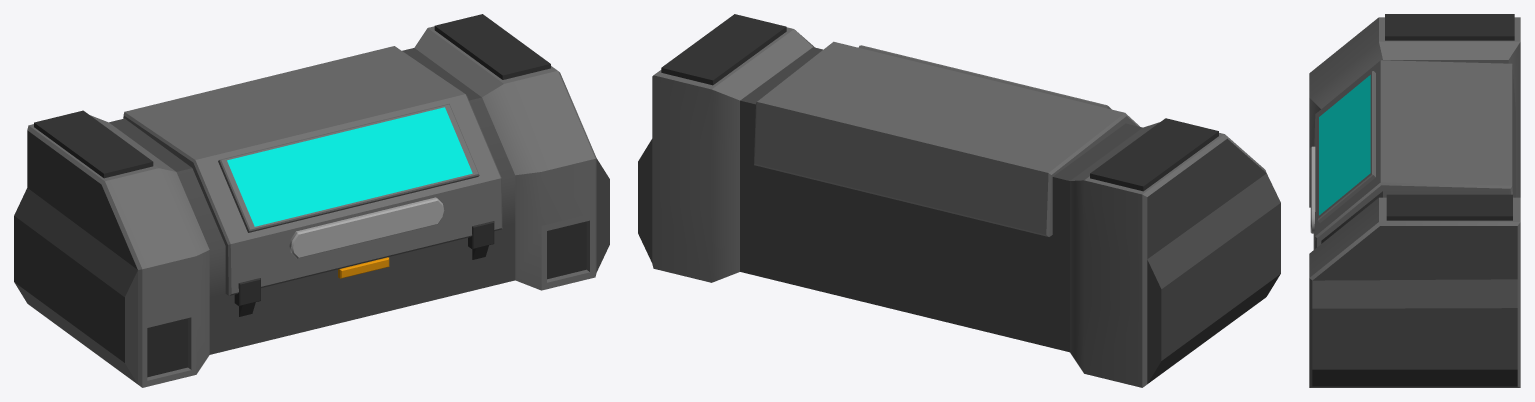
The model's file is b_coffre.fbx.
The picture shows the model from 3 angles, left to right: view 1: azimuth 30°, elevation 25°; view 2: azimuth 150°, elevation 25°; view 3: azimuth 270°, elevation 25°; orthographic projection. The views are drawn at different scales.
Visible parts, largest first — view 1: pCube1, pCube3, pCube5, pCube4, pCube2; view 2: pCube1; view 3: pCube1, pCube3.
Boxes of the visible parts, box(x1,y1,x2,y2) form: pCube1: box(14, 14, 609, 387); pCube3: box(289, 197, 444, 258); pCube5: box(468, 221, 494, 259); pCube4: box(234, 278, 260, 316); pCube2: box(338, 257, 389, 278); pCube1: box(638, 14, 1280, 387); pCube1: box(1309, 14, 1520, 387); pCube3: box(1310, 146, 1315, 233).
Size of the model in its own units: 0.0991 by 0.0359 by 0.0403.
